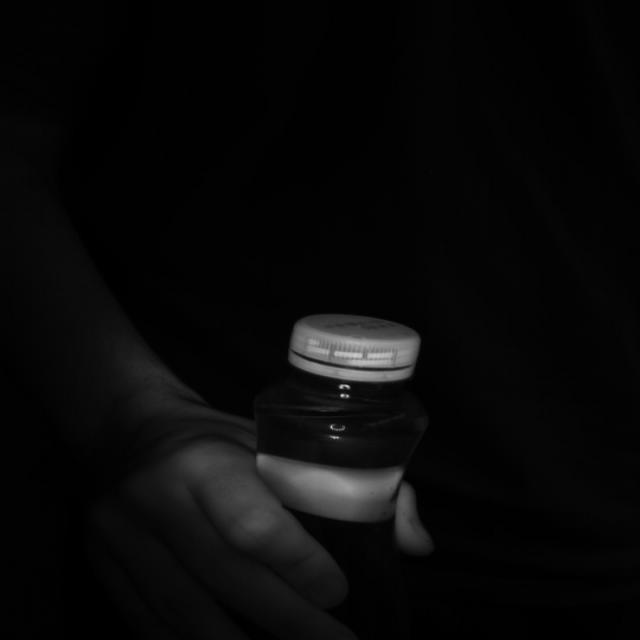Not Good: (290, 315, 420, 382)
